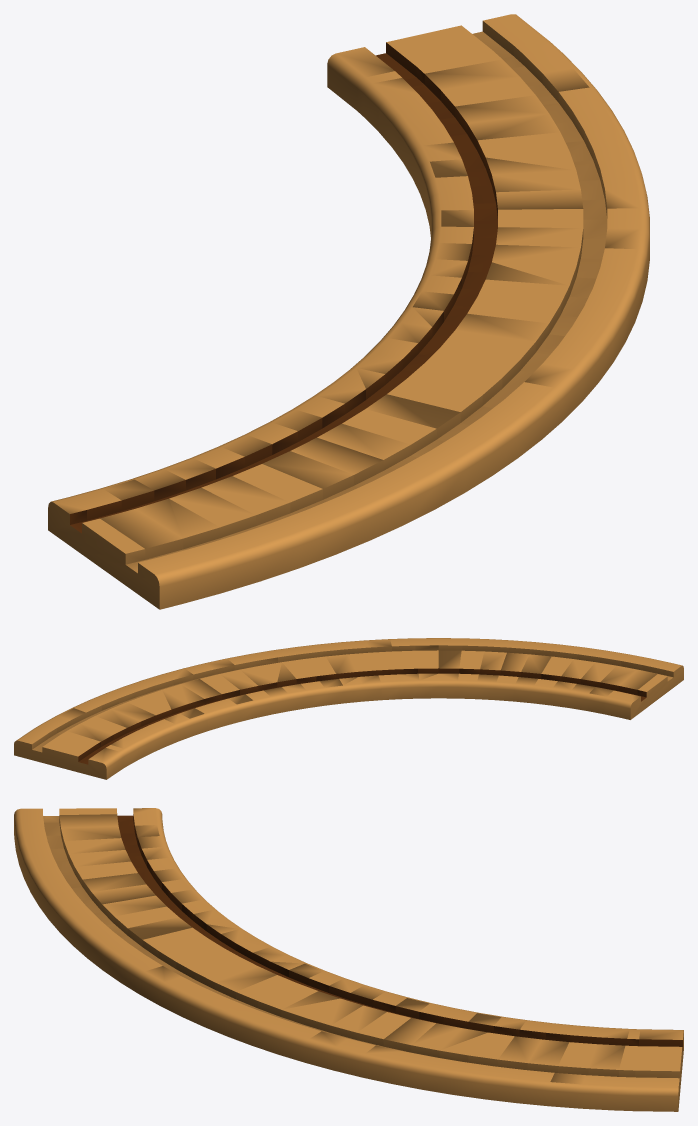
The model's file is TightRight.fbx.
3 views of the same model, one above another, from view 1: azimuth 30°, elevation 25°; view 2: azimuth 150°, elevation 25°; view 3: azimuth 270°, elevation 25° (orthographic). The views are drawn at different scales.
Parts seen in each view (by area): view 1: TightRight; view 2: TightRight; view 3: TightRight.
Part boxes in pixels (x1,y1,x2,y2): TightRight: (48, 14, 649, 609); TightRight: (14, 638, 683, 779); TightRight: (14, 808, 683, 1111).
Size of the model in its own units: 4.51 by 0.16 by 4.52.
